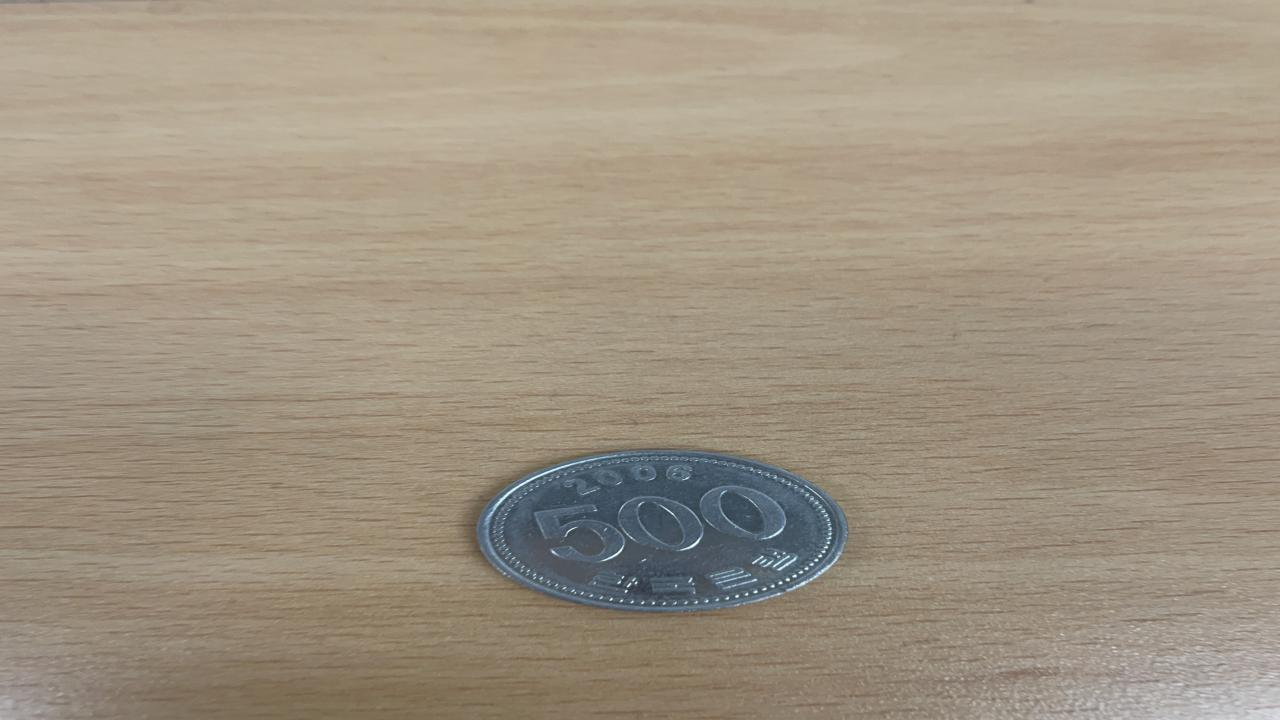coin: (473, 448, 848, 612)
